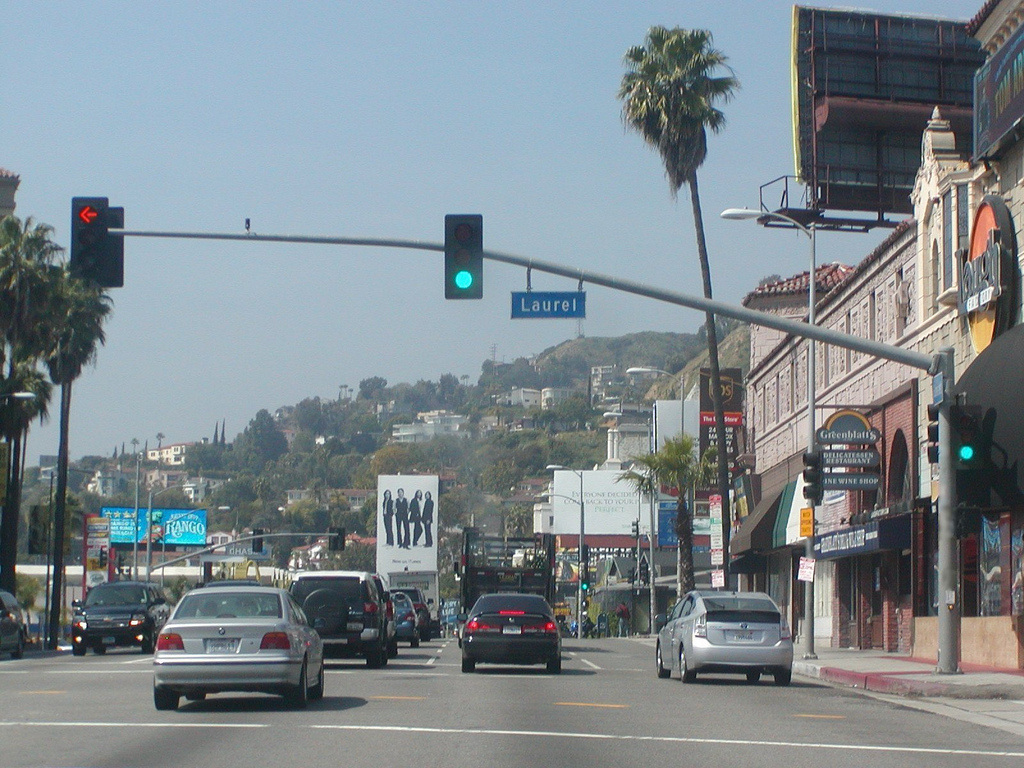traffic_light: (443, 213, 485, 301), (69, 195, 110, 280), (948, 403, 984, 472)
